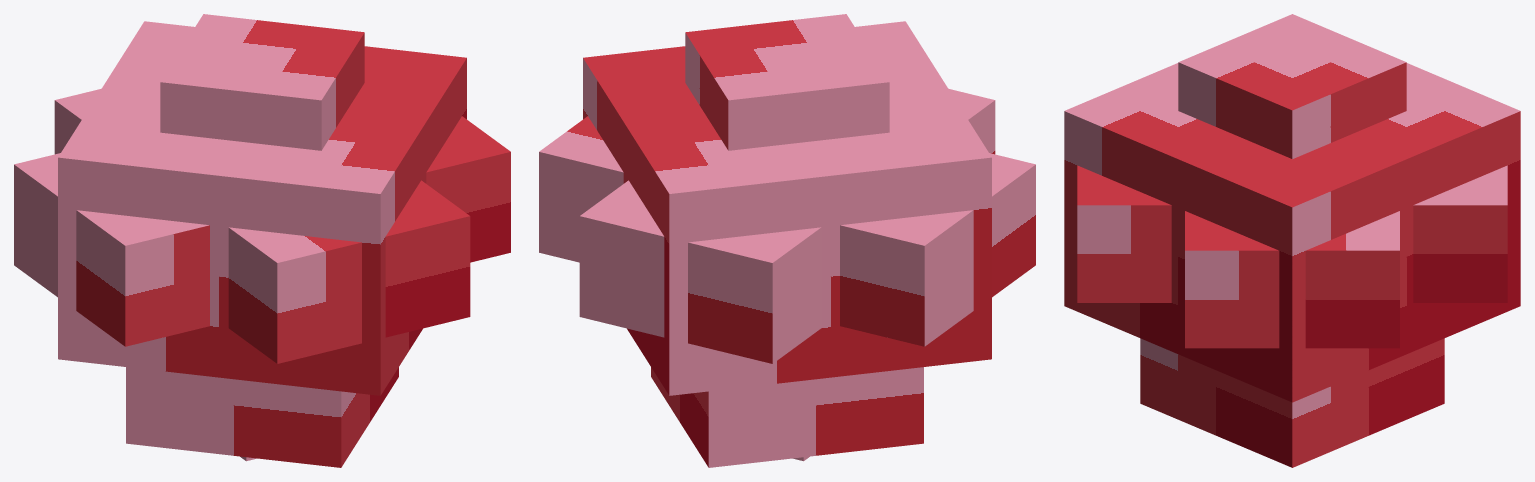
The model's file is ruby.glb.
The picture shows the model from 3 angles, left to right: view 1: azimuth 30°, elevation 25°; view 2: azimuth 150°, elevation 25°; view 3: azimuth 270°, elevation 25°; orthographic projection. The views are drawn at different scales.
Parts seen in each view (by area): view 1: crown, girdle, girdle_z, table, pavilion; view 2: crown, girdle, girdle_z, table, pavilion; view 3: crown, girdle, girdle_z, table, pavilion.
Boxes of the visible parts, x1,y1,x2,y2 form: crown: [58, 21, 466, 395]; girdle: [14, 116, 510, 346]; girdle_z: [54, 88, 470, 363]; table: [160, 14, 364, 150]; pavilion: [126, 367, 398, 467]; crown: [583, 21, 991, 395]; girdle: [539, 116, 1035, 346]; girdle_z: [579, 88, 995, 363]; table: [685, 14, 889, 150]; pavilion: [651, 367, 923, 467]; crown: [1064, 63, 1520, 402]; girdle: [1185, 211, 1399, 348]; girdle_z: [1077, 165, 1507, 302]; table: [1178, 14, 1406, 158]; pavilion: [1140, 338, 1444, 467].
Bounding box in the file's own units: 0.2652 × 0.2344 × 0.2652.
1 material, 1 textured.
